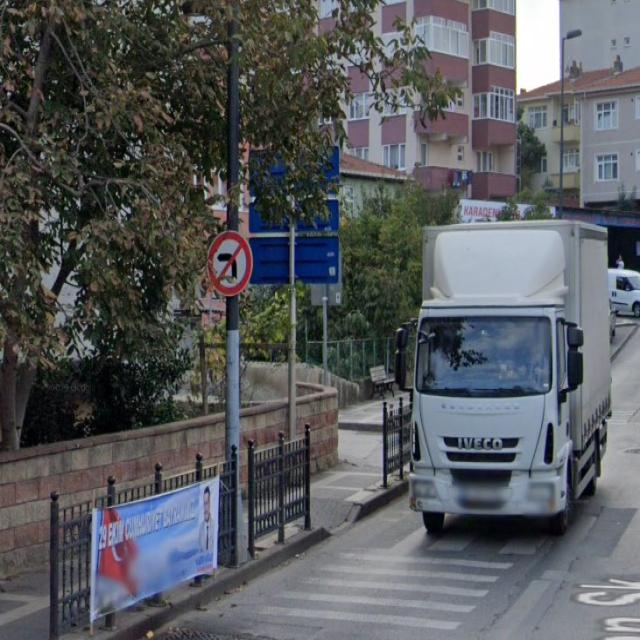soladonulmez: (206, 231, 252, 295)
